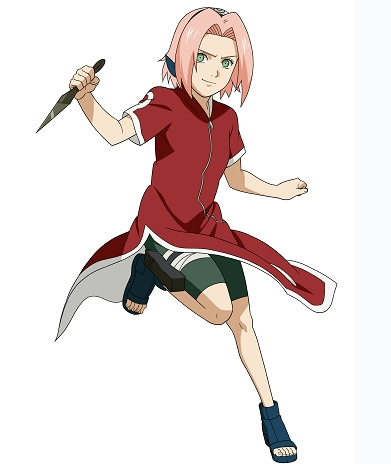sakura: (177, 6, 243, 101)
